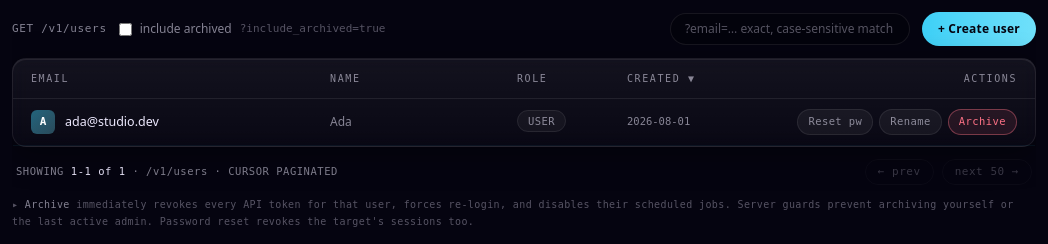
Test: a filter with no match shows the filtered empty card
The width and height of the screenshot is (1048, 244).
Expected: the text "ada@studio.dev" is shown, x1=65 y1=112 x2=159 y2=131
In the field named "Filter by email": coordinates (790, 29) x1=670 y1=13 x2=910 y2=45, type "nobody@studio.dev"
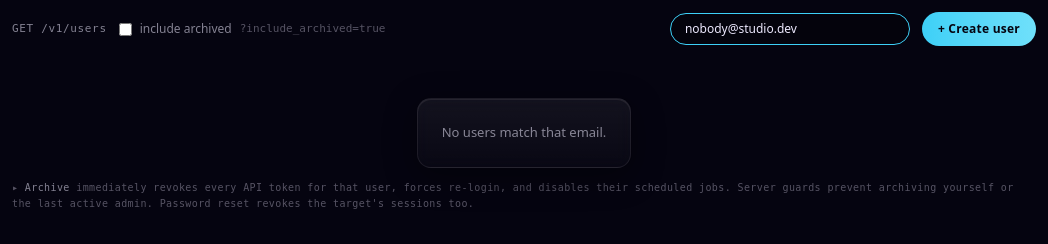
Expected: the text "No users match that email." is shown, x1=417 y1=98 x2=631 y2=168
